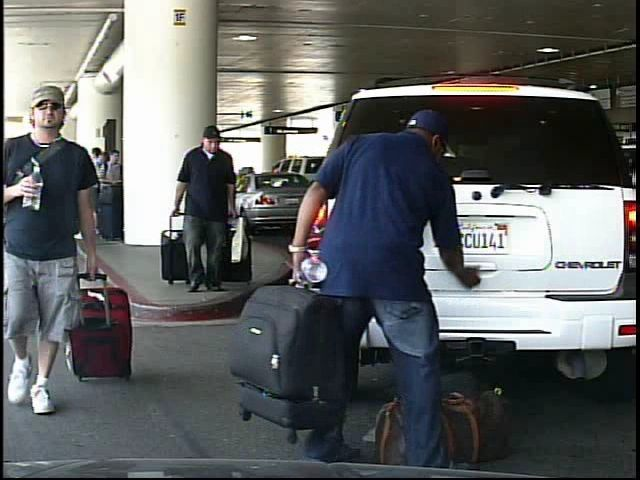person: (279, 75, 461, 471), (3, 91, 112, 426), (167, 129, 248, 296)
